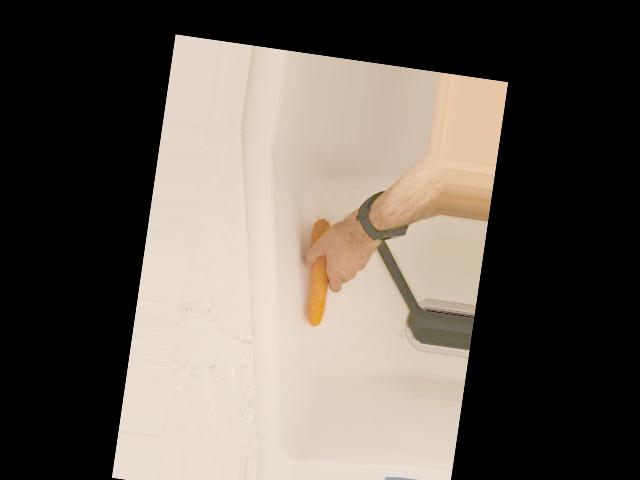carrot: (300, 217, 339, 326)
